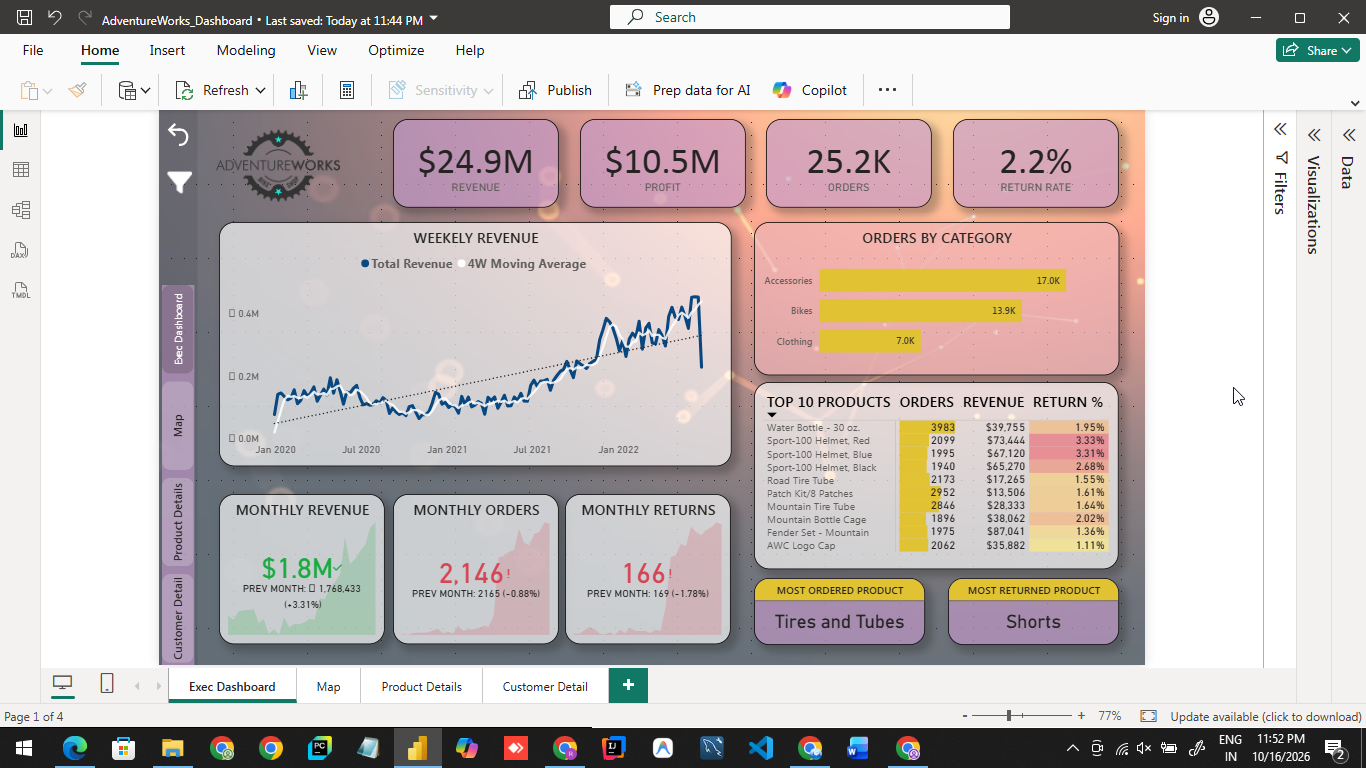

Layout of this report page (visuals, bound fields, positions):
{"tool":"powerbi","page":{"name":"Exec Dashboard","canvas":[1280,720],"ordinal":0},"visuals":[{"type":"image","title":"AW Logo","box":[28.3,18.3,253.3,108.3],"z":0},{"type":"card","fields":{"Values":["Measure Table.Total Revenue"]},"box":[303.3,11.7,215,115],"z":1000},{"type":"card","fields":{"Values":["Measure Table.Total Profit"]},"box":[545.6,11.7,215,115],"z":2000},{"type":"card","fields":{"Values":["Measure Table.Total Orders"]},"box":[787.8,11.7,215,115],"z":3000},{"type":"card","fields":{"Values":["Measure Table.Return Rate"]},"box":[1030,11.7,215,115],"z":4000},{"type":"lineChart","title":"WEEKELY REVENUE","fields":{"Y":["Measure Table.Total Revenue","Measure Table.4W Moving Average"],"Category":["Calendar Lookup.Start of Week"]},"box":[78.3,145,665,316.7],"z":5000},{"type":"kpi","title":"MONTHLY REVENUE","fields":{"Indicator":["Measure Table.Total Revenue"],"TrendLine":["Calendar Lookup.Date Hierarchy.Start of Month"],"Goal":["Measure Table.Previous Month Revenue"]},"box":[78.3,498.3,215,195],"z":6000},{"type":"kpi","title":"MONTHLY ORDERS","fields":{"TrendLine":["Calendar Lookup.Date Hierarchy.Start of Month"],"Goal":["Measure Table.Previous Month Orders"],"Indicator":["Measure Table.Total Orders"]},"box":[303.3,498.3,215,195],"z":7000},{"type":"kpi","title":"MONTHLY RETURNS","fields":{"TrendLine":["Calendar Lookup.Date Hierarchy.Start of Month"],"Indicator":["Measure Table.Total Returns"],"Goal":["Measure Table.Previous Month Returns"]},"box":[526.7,498.3,215,195],"z":8000},{"type":"clusteredBarChart","title":"ORDERS BY CATEGORY","fields":{"Category":["Product Categories Lookup.CategoryName"],"Y":["Measure Table.Total Orders"]},"box":[771.2,145,473.8,198.8],"z":9000},{"type":"pivotTable","fields":{"Rows":["Product Lookup.ProductName"],"Values":["Measure Table.Total Orders","Measure Table.Total Revenue","Measure Table.Return Rate"]},"box":[771.7,353.3,473.3,243.3],"z":10000},{"type":"card","title":"MOST ORDERED PRODUCT","fields":{"Values":["Min(Product Subcategories Lookup.SubcategoryName)"]},"box":[771.7,606.7,221.7,86.7],"z":11000},{"type":"card","title":"MOST RETURNED PRODUCT","fields":{"Values":["Min(Product Subcategories Lookup.SubcategoryName)"]},"box":[1023.3,606.7,221.7,86.7],"z":12000},{"type":"shape","box":[0,0,50,720],"z":13000},{"type":"actionButton","box":[0,11.7,50,40],"z":14000},{"type":"pageNavigator","box":[3.3,226.7,41.7,493.3],"z":15000},{"type":"actionButton","box":[3.3,73.3,46.7,40],"z":16000}]}

Visuals, with their boxes on the page's 1280x720 design canvas (x1, y1, x2, y2). These are canvas units, not pixel positions in the 1366x768 screenshot, which may show the page scaled, cropped or inside an application window:
"AW Logo" image: detection(28, 18, 282, 127)
card - Measure Table.Total Revenue: detection(303, 12, 518, 127)
card - Measure Table.Total Profit: detection(546, 12, 761, 127)
card - Measure Table.Total Orders: detection(788, 12, 1003, 127)
card - Measure Table.Return Rate: detection(1030, 12, 1245, 127)
"WEEKELY REVENUE" lineChart: detection(78, 145, 743, 462)
"MONTHLY REVENUE" kpi: detection(78, 498, 293, 693)
"MONTHLY ORDERS" kpi: detection(303, 498, 518, 693)
"MONTHLY RETURNS" kpi: detection(527, 498, 742, 693)
"ORDERS BY CATEGORY" clusteredBarChart: detection(771, 145, 1245, 344)
pivotTable - Product Lookup.ProductName x Measure Table.Total Orders: detection(772, 353, 1245, 597)
"MOST ORDERED PRODUCT" card: detection(772, 607, 993, 693)
"MOST RETURNED PRODUCT" card: detection(1023, 607, 1245, 693)
shape: detection(0, 0, 50, 720)
actionButton: detection(0, 12, 50, 52)
pageNavigator: detection(3, 227, 45, 720)
actionButton: detection(3, 73, 50, 113)
